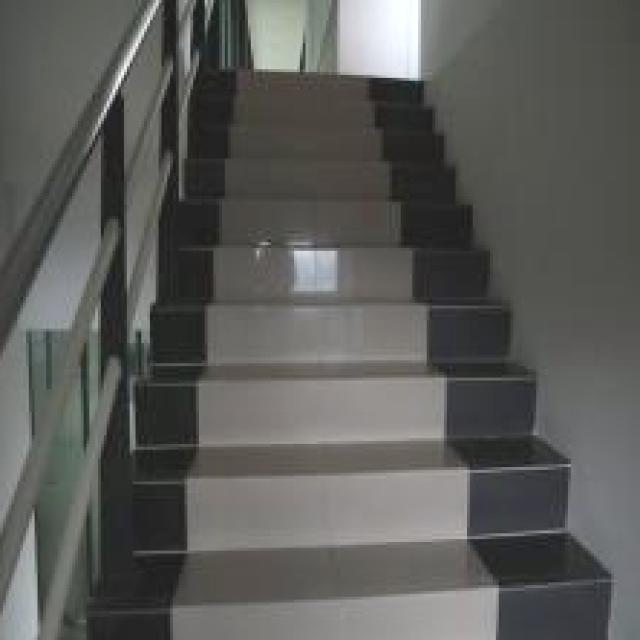upstair: (197, 171, 454, 563)
